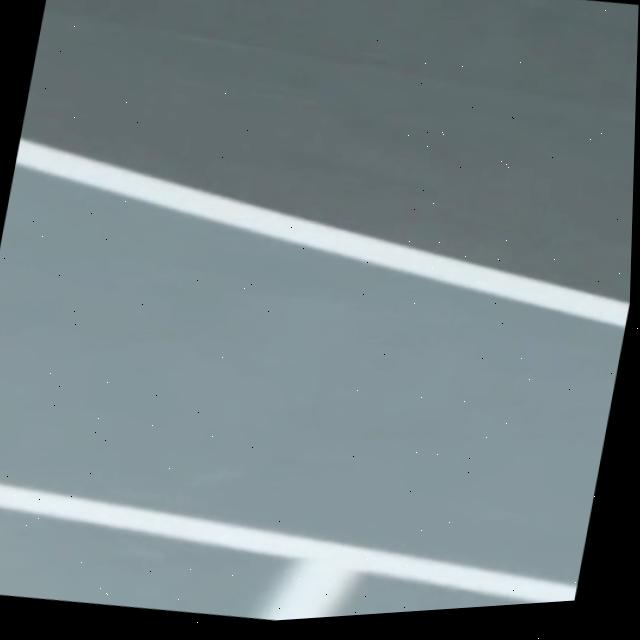left: (16, 138, 630, 328)
